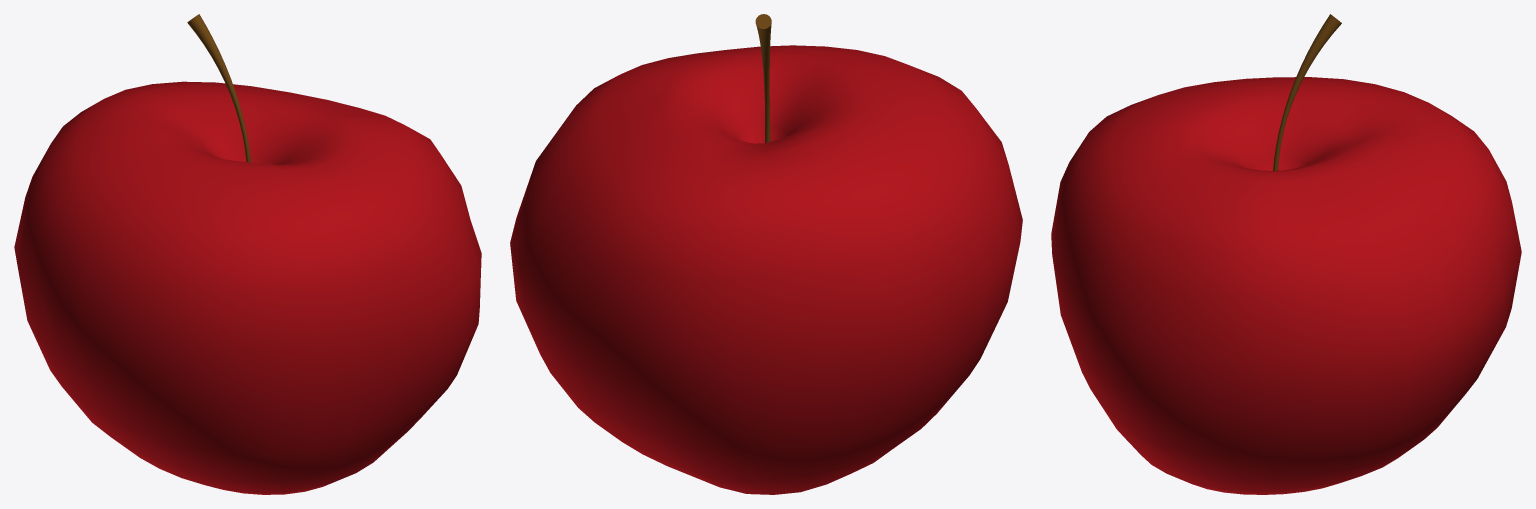
File: Apple_Red.FBX
3 views of the same model, side by side, from view 1: azimuth 30°, elevation 25°; view 2: azimuth 150°, elevation 25°; view 3: azimuth 270°, elevation 25° (orthographic). The views are drawn at different scales.
Visible parts, largest first — view 1: Apple_001; view 2: Apple_001; view 3: Apple_001.
Part boxes in pixels (left/top/right/bottom): Apple_001: left=14, top=14, right=481, bottom=494; Apple_001: left=510, top=14, right=1022, bottom=494; Apple_001: left=1051, top=14, right=1521, bottom=494.
Size of the model in its own units: 9.46 by 9.58 by 9.52.
Materials: 1 (1 with a texture image).
